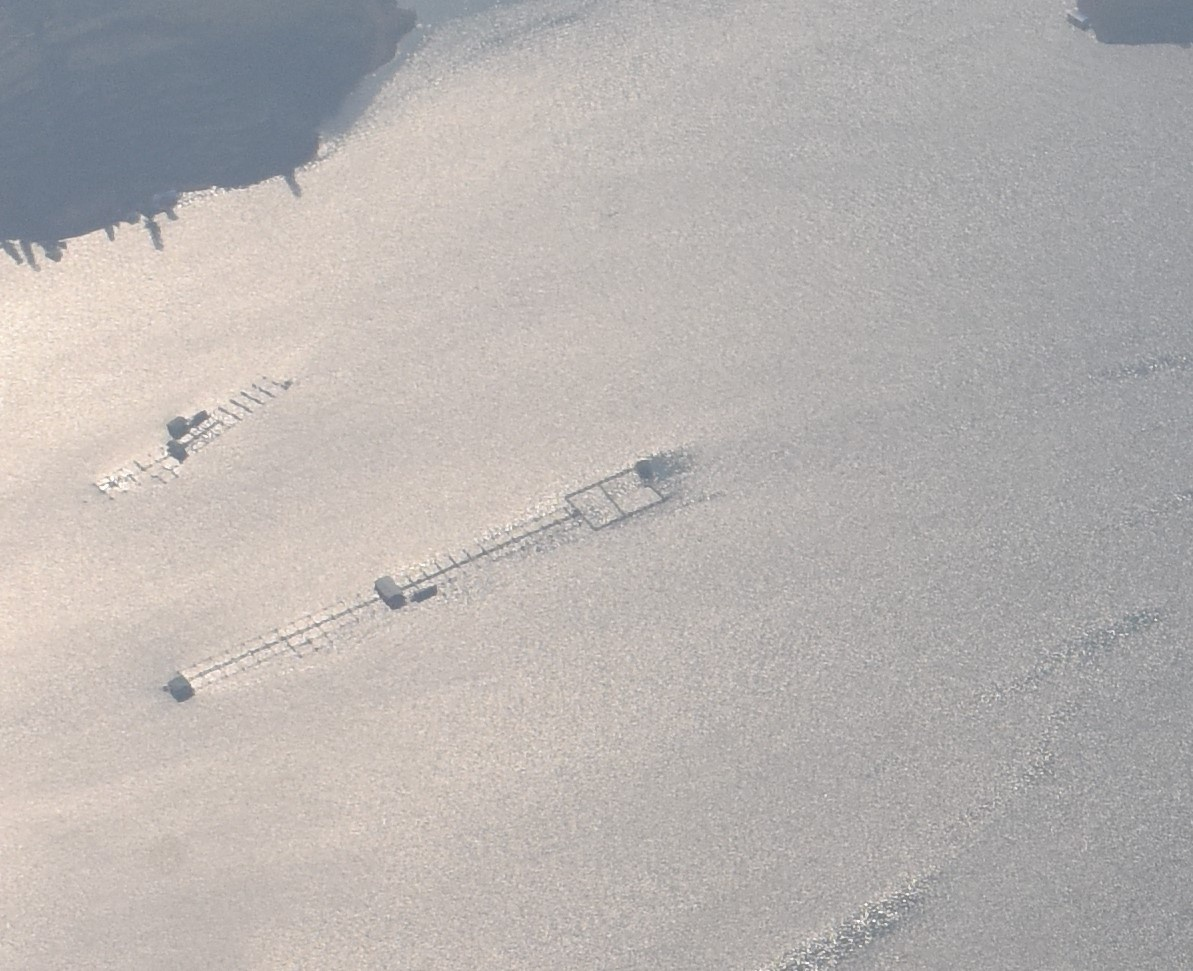cultivation-mesh-cage: (175, 464, 661, 686), (91, 375, 290, 499)
prefabricated-house: (375, 576, 402, 610), (166, 677, 194, 701), (166, 439, 187, 461), (166, 416, 189, 436), (409, 583, 436, 600), (189, 411, 208, 426)
